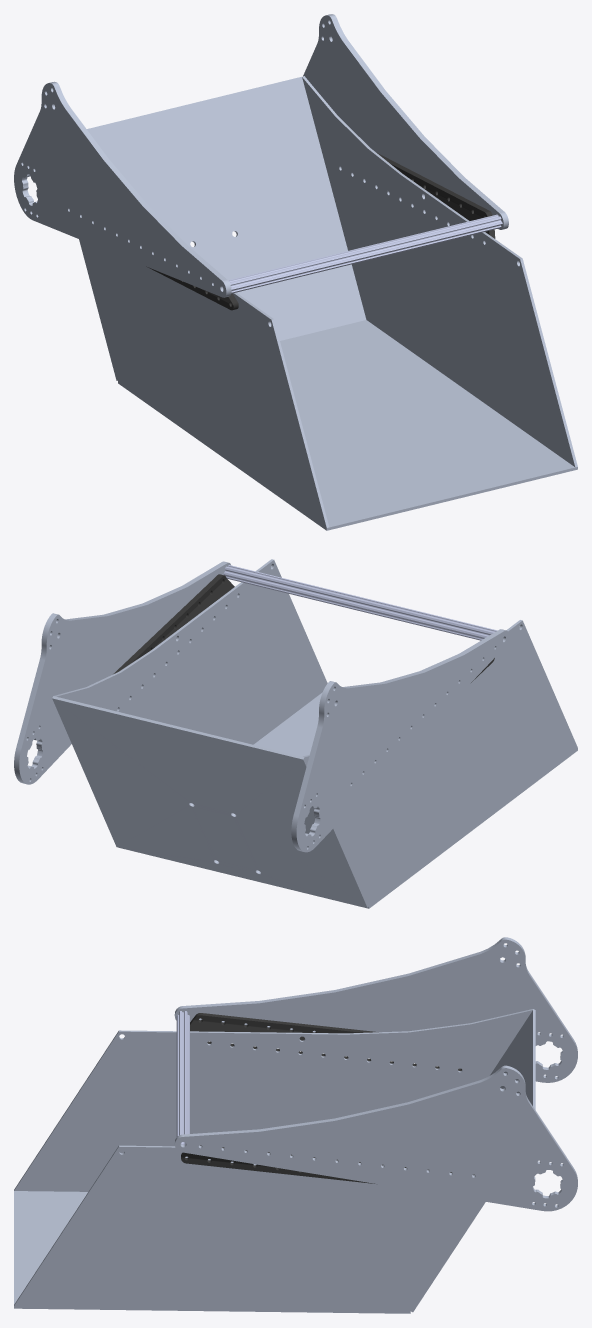
Rendered from v2_bot_bucket.dae.
The picture shows the model from 3 angles, top to bottom: view 1: azimuth 30°, elevation 25°; view 2: azimuth 150°, elevation 25°; view 3: azimuth 270°, elevation 25°; orthographic projection. The views are drawn at different scales.
Parts seen in each view (by area): view 1: SOLID.008; view 2: SOLID.008; view 3: SOLID.008.
Part boxes in pixels (<box>): SOLID.008: <box>14,14,577,530</box>; SOLID.008: <box>14,559,577,908</box>; SOLID.008: <box>14,937,577,1313</box>.
Bounding box in the file's own units: 0.3429 × 0.6244 × 0.3091.
